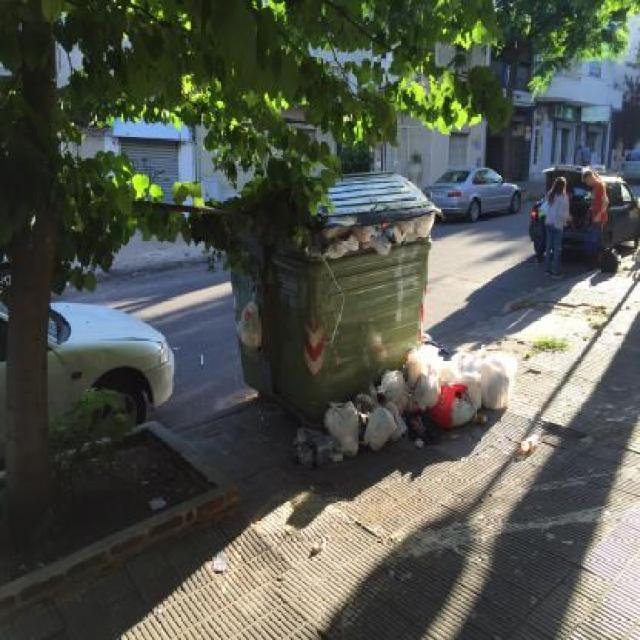garbage: (283, 329, 522, 482), (294, 211, 436, 268)
